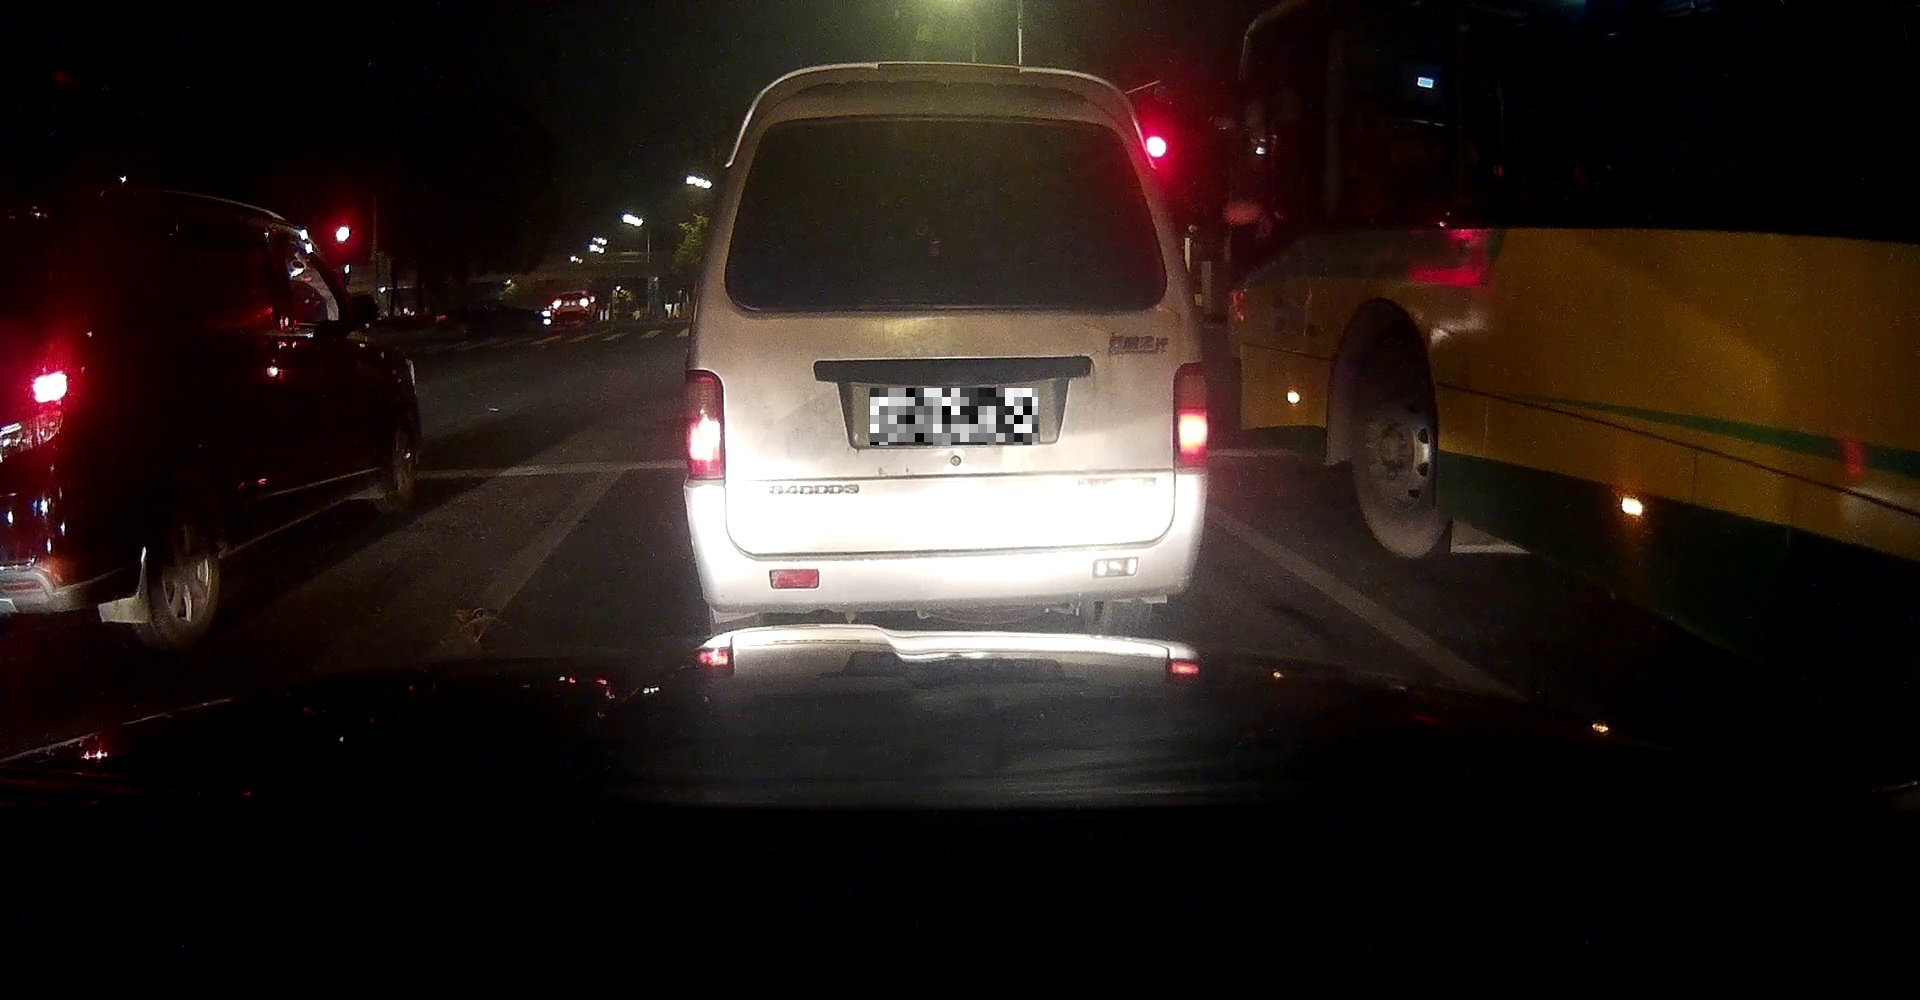L_light: (683, 369, 724, 481)
R_light: (1173, 360, 1208, 473)
T_light: (897, 117, 975, 135)
night-no: (681, 62, 1210, 635)
plate_1: (870, 388, 1037, 445)
